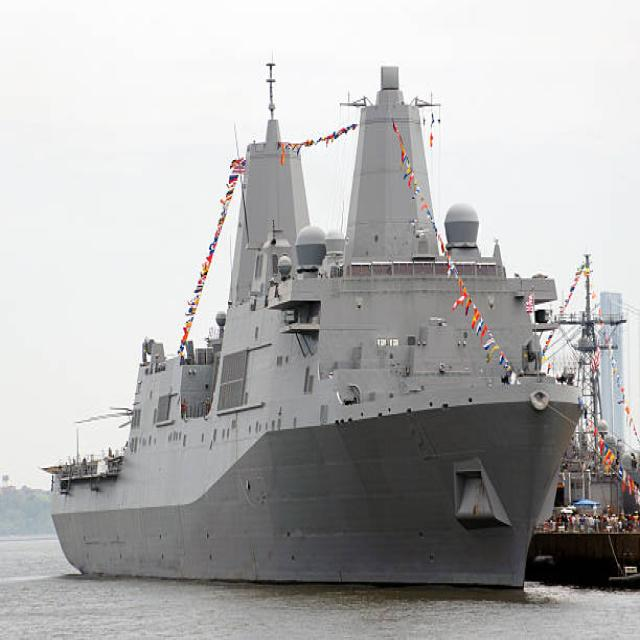Military: (51, 64, 581, 594)
